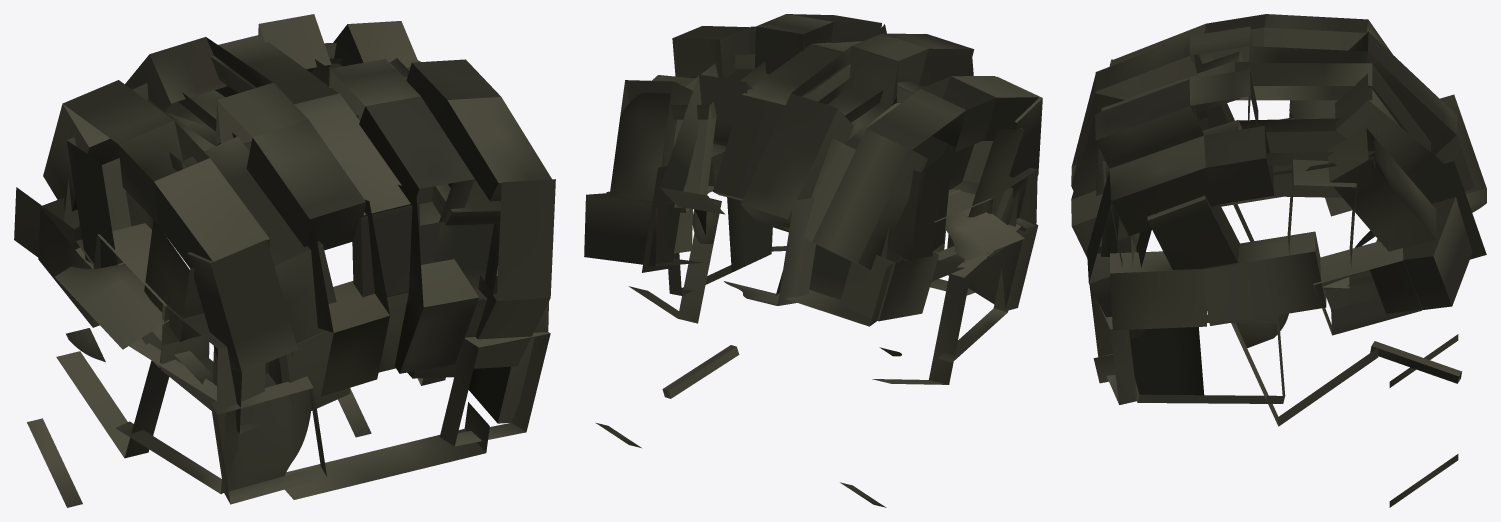
The model's file is tshfour_green_h.obj.
The picture shows the model from 3 angles, left to right: view 1: azimuth 30°, elevation 25°; view 2: azimuth 150°, elevation 25°; view 3: azimuth 270°, elevation 25°; orthographic projection. The views are drawn at different scales.
Parts seen in each view (by area): view 1: cube; view 2: cube; view 3: cube.
Part boxes in pixels (x1,y1,x2,y2): cube: (14,14,555,507); cube: (584,14,1042,507); cube: (1071,14,1486,507).
Bounding box in the file's own units: 0.8029 × 0.8478 × 0.8255.
